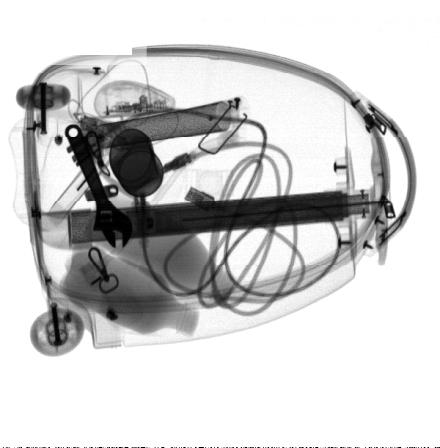Wrench: (64, 124, 133, 248)
